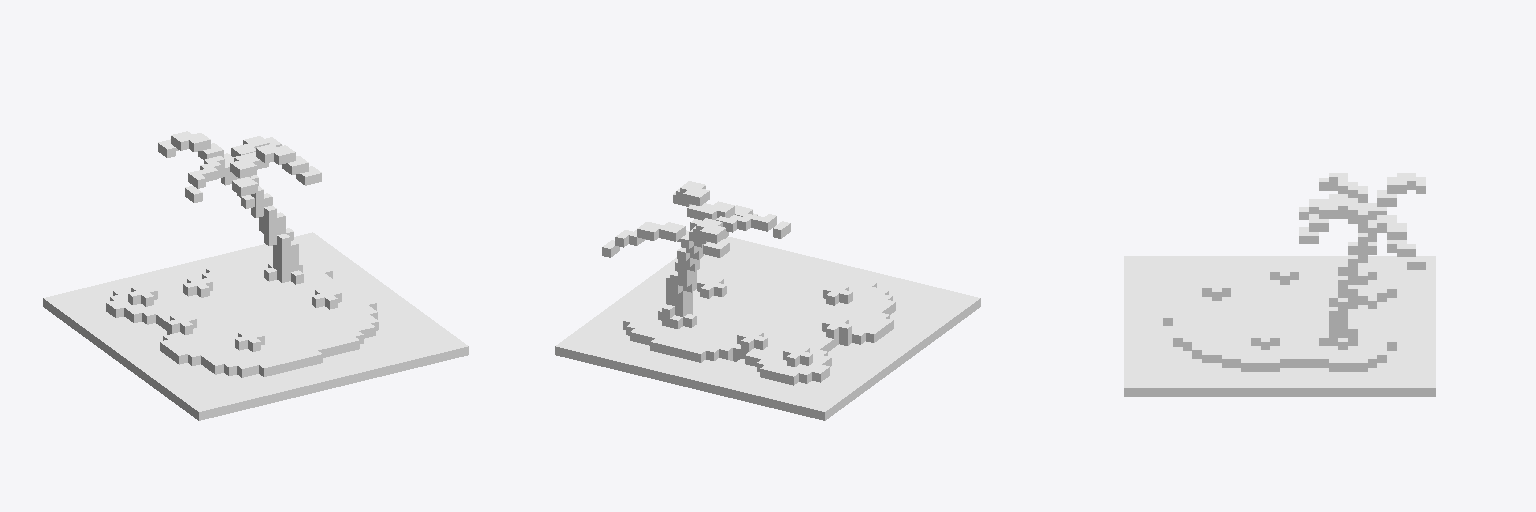
The model's file is swamp.obj.
The picture shows the model from 3 angles: view 1: azimuth 30°, elevation 25°; view 2: azimuth 150°, elevation 25°; view 3: azimuth 270°, elevation 25°; orthographic projection.
Parts seen in each view (by area): view 1: object 1; view 2: object 1; view 3: object 1.
Boxes of the visible parts, x1=… form: object 1: x1=43, y1=131, x2=468, y2=420; object 1: x1=555, y1=181, x2=980, y2=420; object 1: x1=1124, y1=173, x2=1435, y2=396.
Bounding box in the file's own units: 3.2 × 1.7 × 3.2.